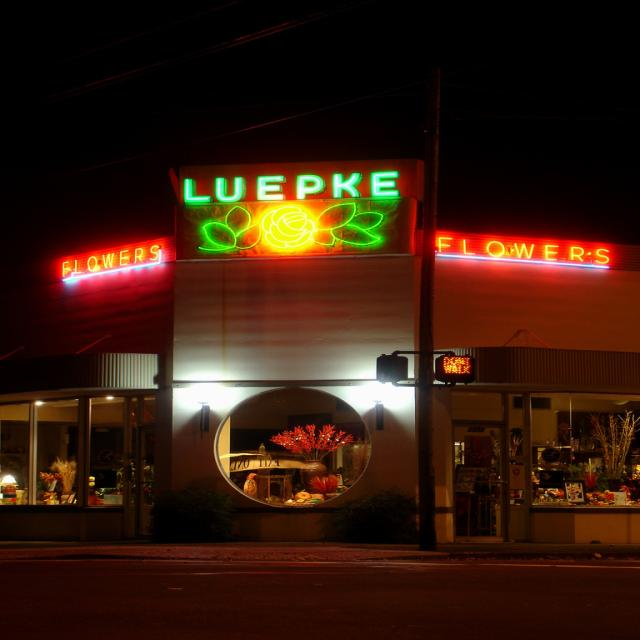no_fire: (16, 123, 640, 324)
